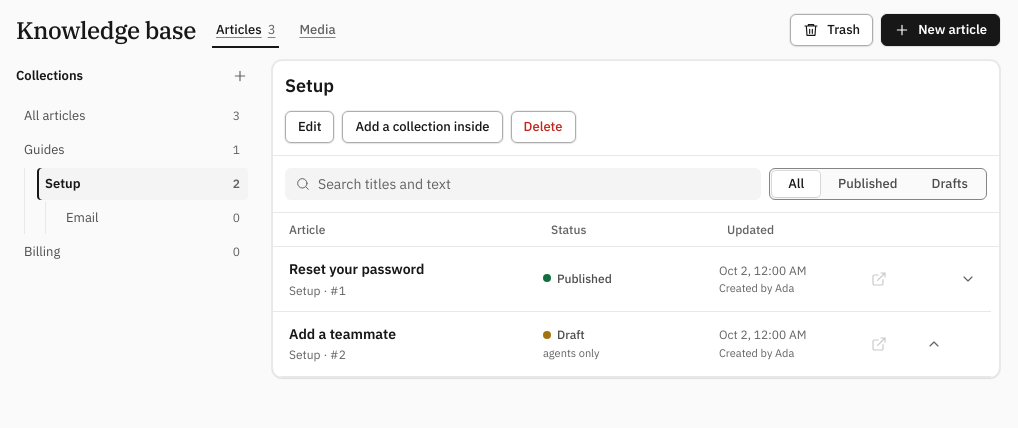
Test case: a collection that still holds articles is not deleted, and the reason is shown
The width and height of the screenshot is (1018, 428).
Click the button with aria-label "Delete Setup": (543, 127) left=511, top=111, right=576, bottom=143
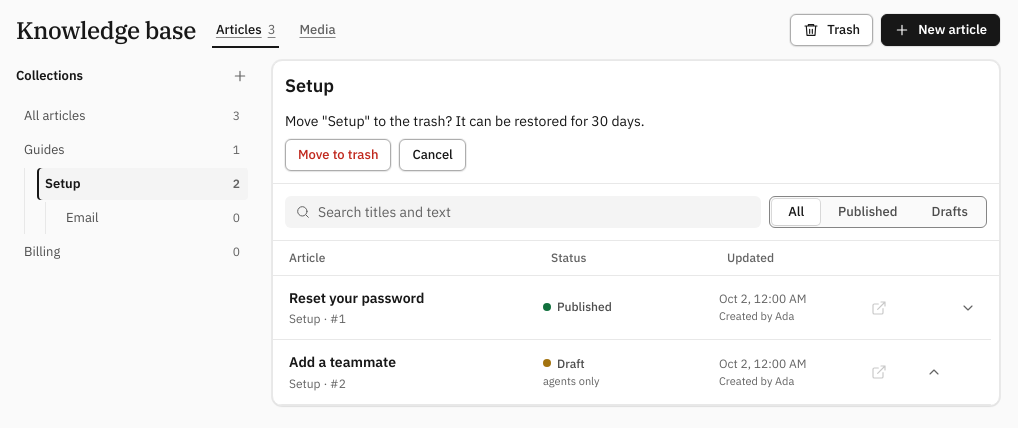
Click the button "Move to trash": (338, 155) left=285, top=139, right=391, bottom=171
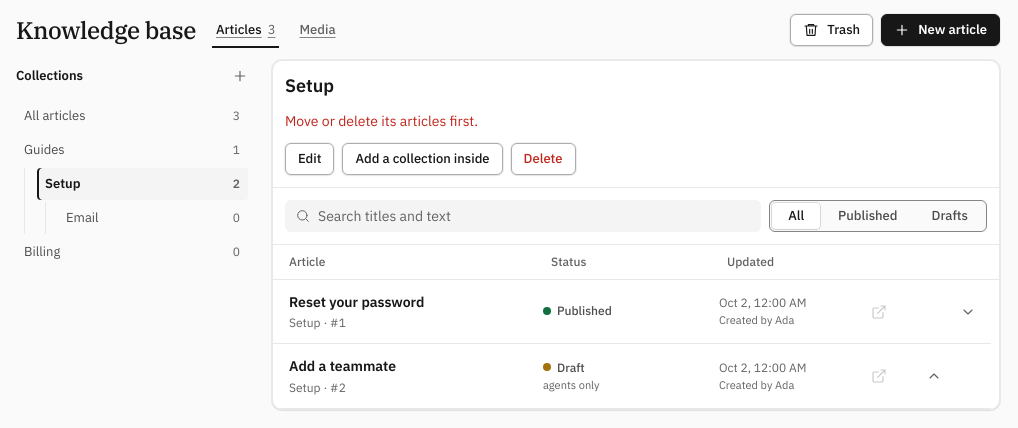
Check: the message reads "Move or delete its articles first.", box left=285, top=112, right=478, bottom=130
